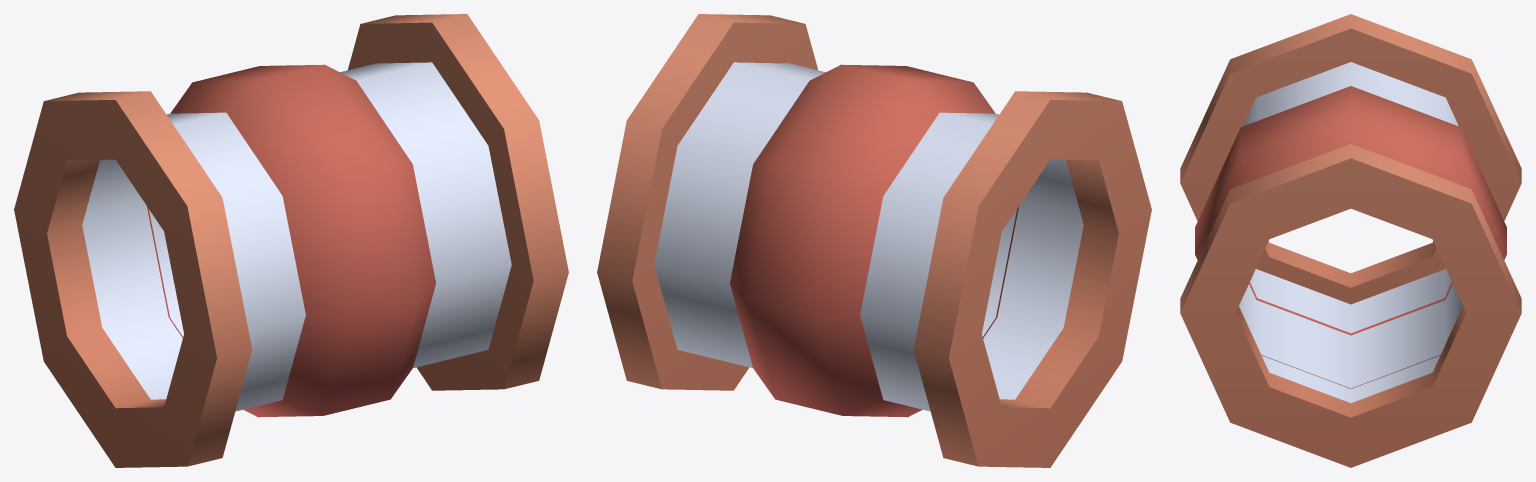
The model's file is pipe-glass-large-bump.obj.
3 views of the same model, side by side, from view 1: azimuth 30°, elevation 25°; view 2: azimuth 150°, elevation 25°; view 3: azimuth 270°, elevation 25° (orthographic). The views are drawn at different scales.
Parts seen in each view (by area): view 1: pipe-glass-large-bump; view 2: pipe-glass-large-bump; view 3: pipe-glass-large-bump.
Part boxes in pixels (x1,y1,x2,y2): pipe-glass-large-bump: [14, 14, 568, 467]; pipe-glass-large-bump: [597, 14, 1151, 467]; pipe-glass-large-bump: [1180, 14, 1521, 467].
Bounding box in the file's own units: 1 × 1 × 1.
